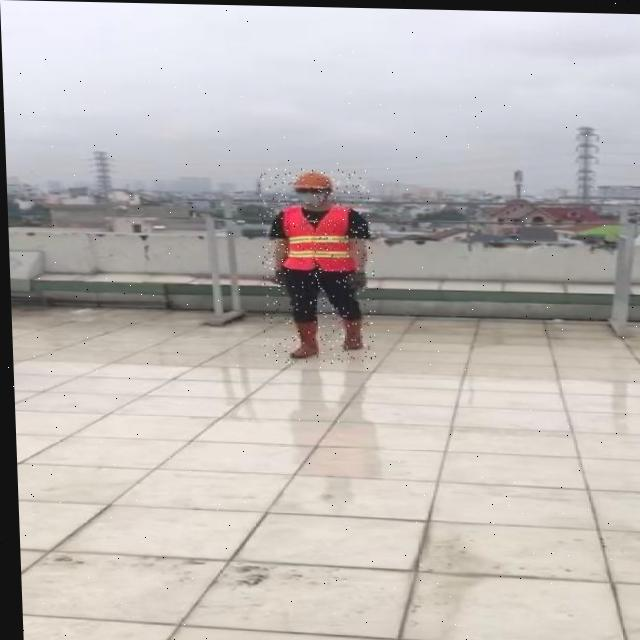Helmet: (290, 168, 333, 210)
No-Glove: (345, 267, 366, 292)
Safety-Boot: (288, 317, 317, 357), (340, 315, 361, 349)
Safety-Vest: (277, 202, 359, 272)
